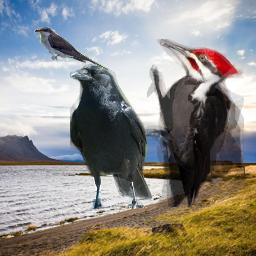Crow: (70, 64, 152, 209)
Cuckoo: (34, 27, 108, 71)
Woodpecker: (143, 39, 244, 207)
